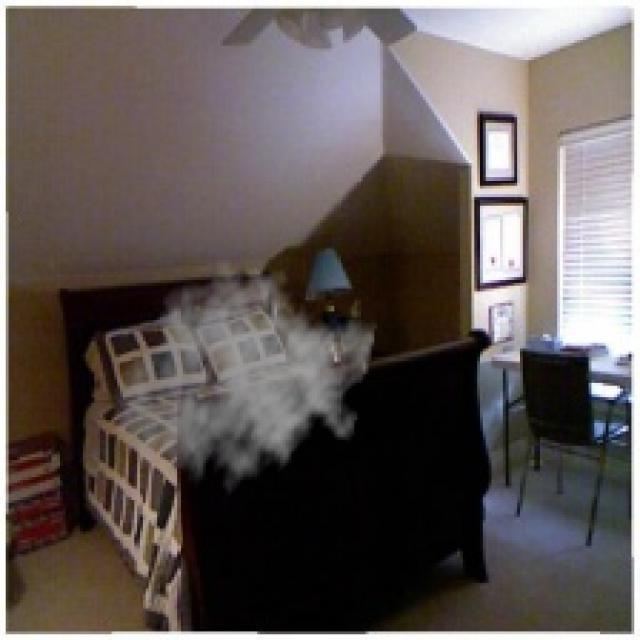Smoke: (111, 257, 378, 506)
